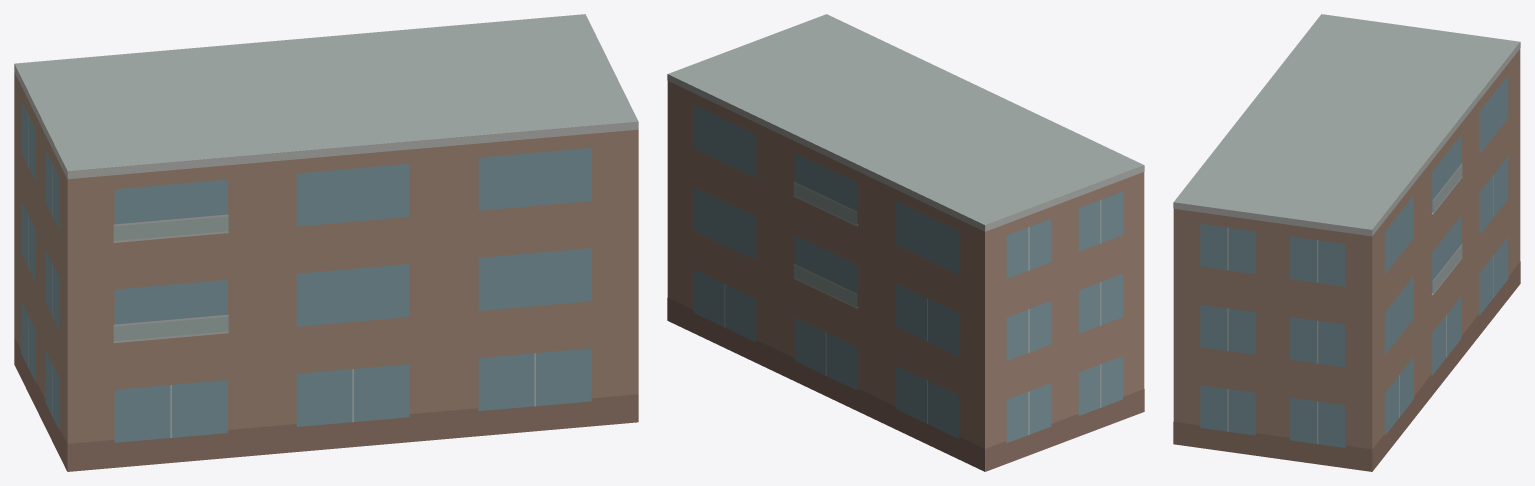
Rendered from survey-upis-32804060.glb.
The picture shows the model from 3 angles, left to right: view 1: azimuth 30°, elevation 25°; view 2: azimuth 150°, elevation 25°; view 3: azimuth 270°, elevation 25°; orthographic projection. The views are drawn at different scales.
Visible parts, largest first — view 1: survey-upis-32804060.tmp; view 2: survey-upis-32804060.tmp; view 3: survey-upis-32804060.tmp.
Boxes of the visible parts, box(x1,y1,x2,y2) form: survey-upis-32804060.tmp: box(14, 14, 638, 471); survey-upis-32804060.tmp: box(667, 14, 1144, 471); survey-upis-32804060.tmp: box(1173, 14, 1520, 471).
Size of the model in its own units: 17.52 by 9.15 by 11.9.
